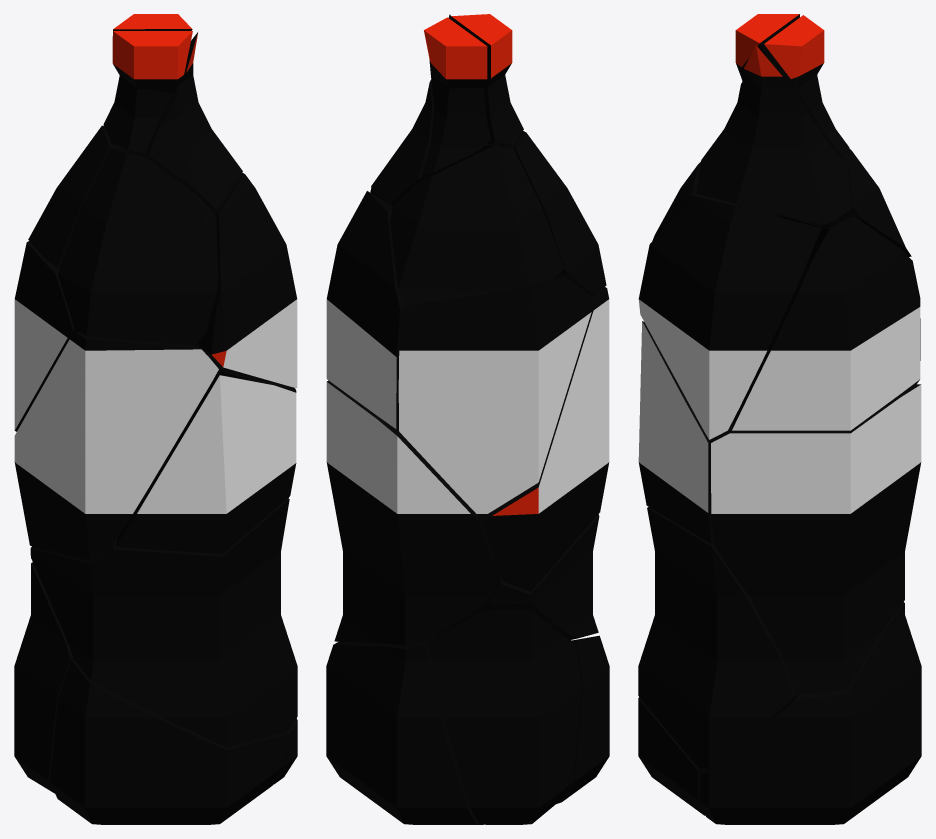
Rendered from Bottle_Fract.fbx.
The picture shows the model from 3 angles, left to right: view 1: azimuth 30°, elevation 25°; view 2: azimuth 150°, elevation 25°; view 3: azimuth 270°, elevation 25°; orthographic projection.
Visible parts, largest first — view 1: cola.002_cell.011, cola.002_cell, cola.002_cell.009, cola.002_cell.006, cola.002_cell.001, cola.002_cell.010, cola.002_cell.014, cola.002_cell.003, cola.002_cell.007, cola.002_cell.008, cola.002_cell.013, cola.002_cell.005 (+1 smaller); view 2: cola.002_cell.007, cola.002_cell.012, cola.002_cell.014, cola.002_cell.004, cola.002_cell.013, cola.002_cell, cola.002_cell.002, cola.002_cell.005, cola.002_cell.011, cola.002_cell.009, cola.002_cell.006, cola.002_cell.003 (+1 smaller); view 3: cola.002_cell.012, cola.002_cell.002, cola.002_cell.004, cola.002_cell.010, cola.002_cell.011, cola.002_cell.008, cola.002_cell.001, cola.002_cell.005, cola.002_cell.006, cola.002_cell.013, cola.002_cell.003, cola.002_cell.009.
Part boxes in pixels (x1,y1,x2,y2): cola.002_cell.011: (30, 498, 297, 747); cola.002_cell: (14, 332, 218, 560); cola.002_cell.009: (58, 149, 218, 345); cola.002_cell.006: (50, 660, 287, 824); cola.002_cell.001: (116, 373, 296, 554); cola.002_cell.010: (195, 172, 297, 388); cola.002_cell.014: (14, 562, 74, 793); cola.002_cell.003: (103, 31, 192, 152); cola.002_cell.007: (14, 241, 79, 431); cola.002_cell.008: (128, 32, 242, 210); cola.002_cell.013: (28, 125, 129, 267); cola.002_cell.005: (110, 14, 192, 110); cola.002_cell.007: (398, 276, 593, 513); cola.002_cell.012: (326, 380, 497, 645); cola.002_cell.014: (427, 609, 581, 824); cola.002_cell.004: (326, 633, 483, 824); cola.002_cell.013: (390, 145, 564, 306); cola.002_cell: (481, 287, 609, 591); cola.002_cell.002: (326, 191, 417, 429); cola.002_cell.005: (421, 17, 490, 176); cola.002_cell.011: (438, 514, 599, 639); cola.002_cell.009: (500, 131, 606, 295); cola.002_cell.006: (556, 635, 609, 803); cola.002_cell.003: (451, 14, 523, 145); cola.002_cell.012: (711, 384, 921, 695); cola.002_cell.002: (732, 216, 920, 430); cola.002_cell.004: (699, 602, 921, 824); cola.002_cell.010: (638, 198, 821, 439); cola.002_cell.011: (638, 507, 795, 768); cola.002_cell.008: (696, 45, 851, 224); cola.002_cell.001: (638, 321, 716, 543); cola.002_cell.005: (764, 15, 849, 161); cola.002_cell.006: (638, 697, 705, 815); cola.002_cell.013: (781, 148, 911, 256); cola.002_cell.003: (735, 14, 799, 81); cola.002_cell.009: (652, 162, 778, 240).
Bounding box in the file's own units: 12.98 × 44.06 × 14.98.
